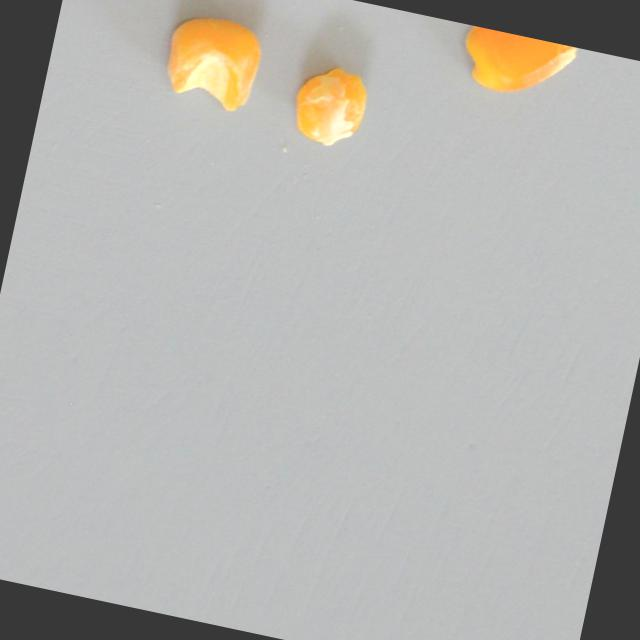pelicula: (156, 6, 269, 117), (453, 24, 578, 109), (285, 58, 372, 153)
